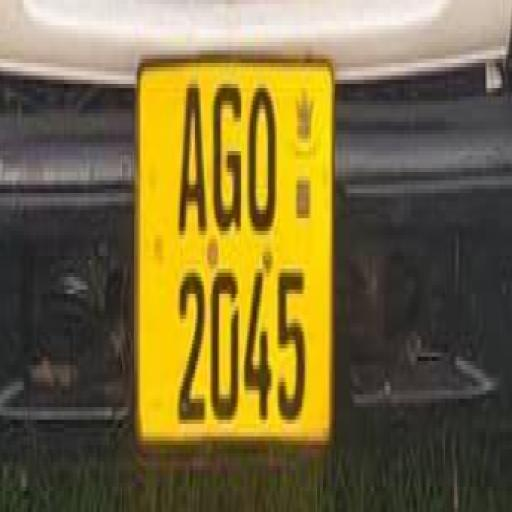number-plates: (142, 72, 322, 442)
